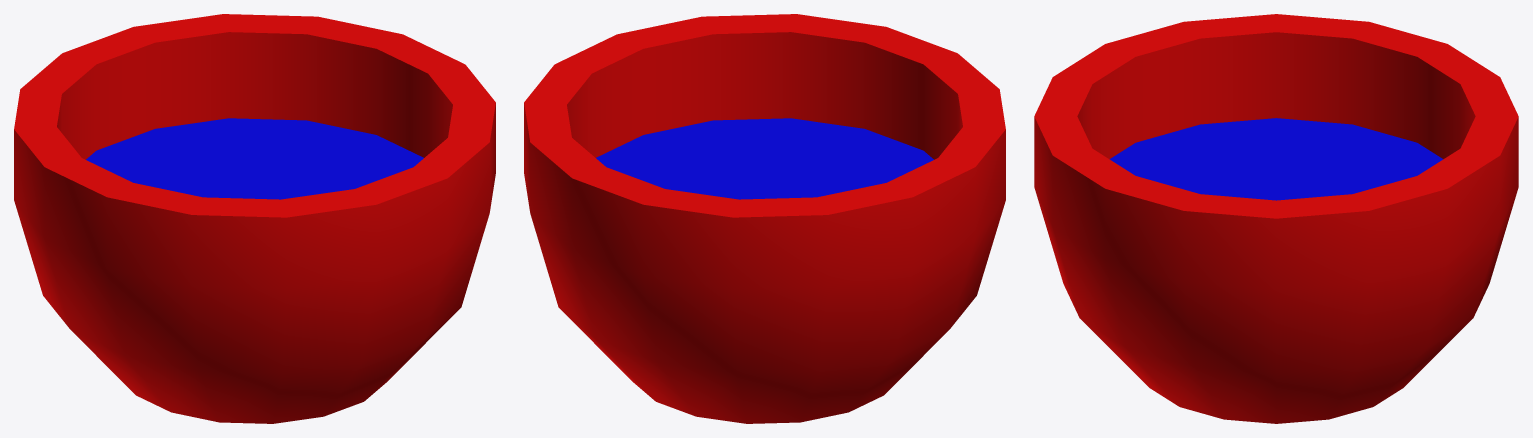
The model's file is reis_low.fbx.
3 renders of one model, left to right at view 1: azimuth 30°, elevation 25°; view 2: azimuth 150°, elevation 25°; view 3: azimuth 270°, elevation 25°, orthographic.
Parts seen in each view (by area): view 1: pPipe2; view 2: pPipe2; view 3: pPipe2.
Part boxes in pixels (x1,y1,x2,y2): pPipe2: (14, 14, 495, 423); pPipe2: (524, 14, 1005, 423); pPipe2: (1034, 14, 1518, 423).
Bounding box in the file's own units: 0.5 × 0.2844 × 0.5.
